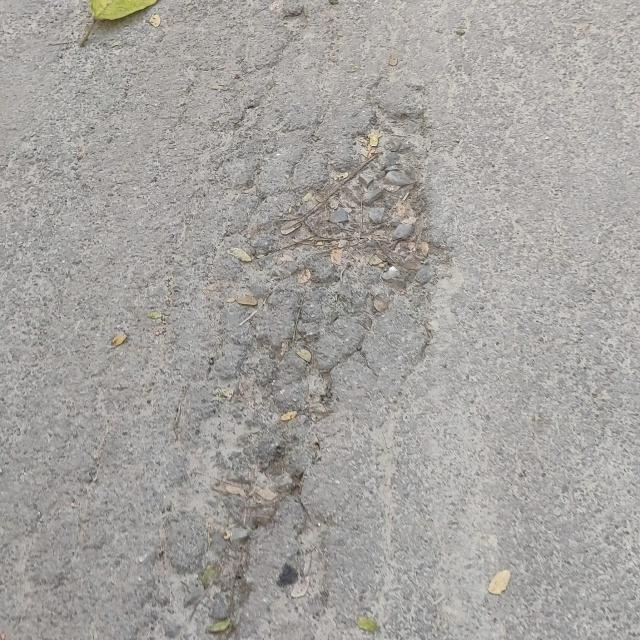Surface Erosion: (88, 128, 542, 640)
